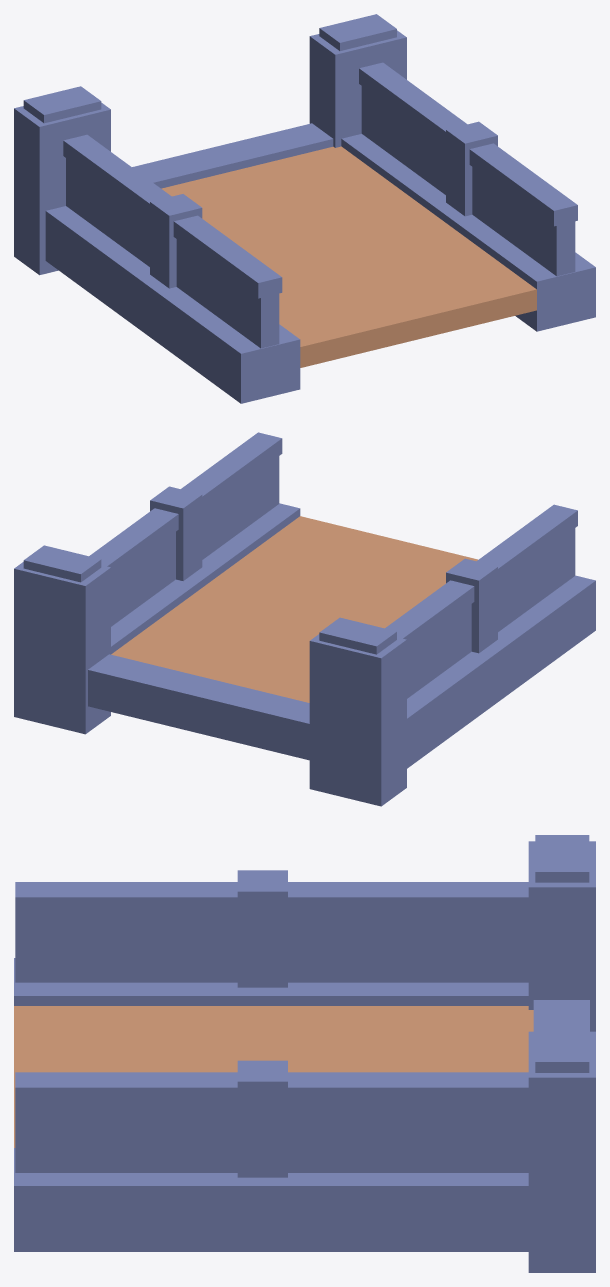
File: bridge_2_part_1.fbx
The picture shows the model from 3 angles, top to bottom: view 1: azimuth 30°, elevation 25°; view 2: azimuth 150°, elevation 25°; view 3: azimuth 270°, elevation 25°; orthographic projection. The views are drawn at different scales.
Parts seen in each view (by area): view 1: bridge_2_part_1; view 2: bridge_2_part_1; view 3: bridge_2_part_1.
Boxes of the visible parts, left/top/right/bottom form: bridge_2_part_1: left=14, top=14, right=595, bottom=403; bridge_2_part_1: left=14, top=432, right=595, bottom=806; bridge_2_part_1: left=14, top=835, right=595, bottom=1272.
Size of the model in its own units: 9.94 by 4.05 by 10.35.
